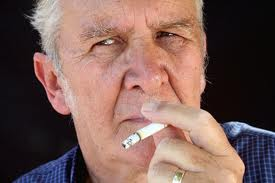cigarette: (118, 119, 169, 149)
